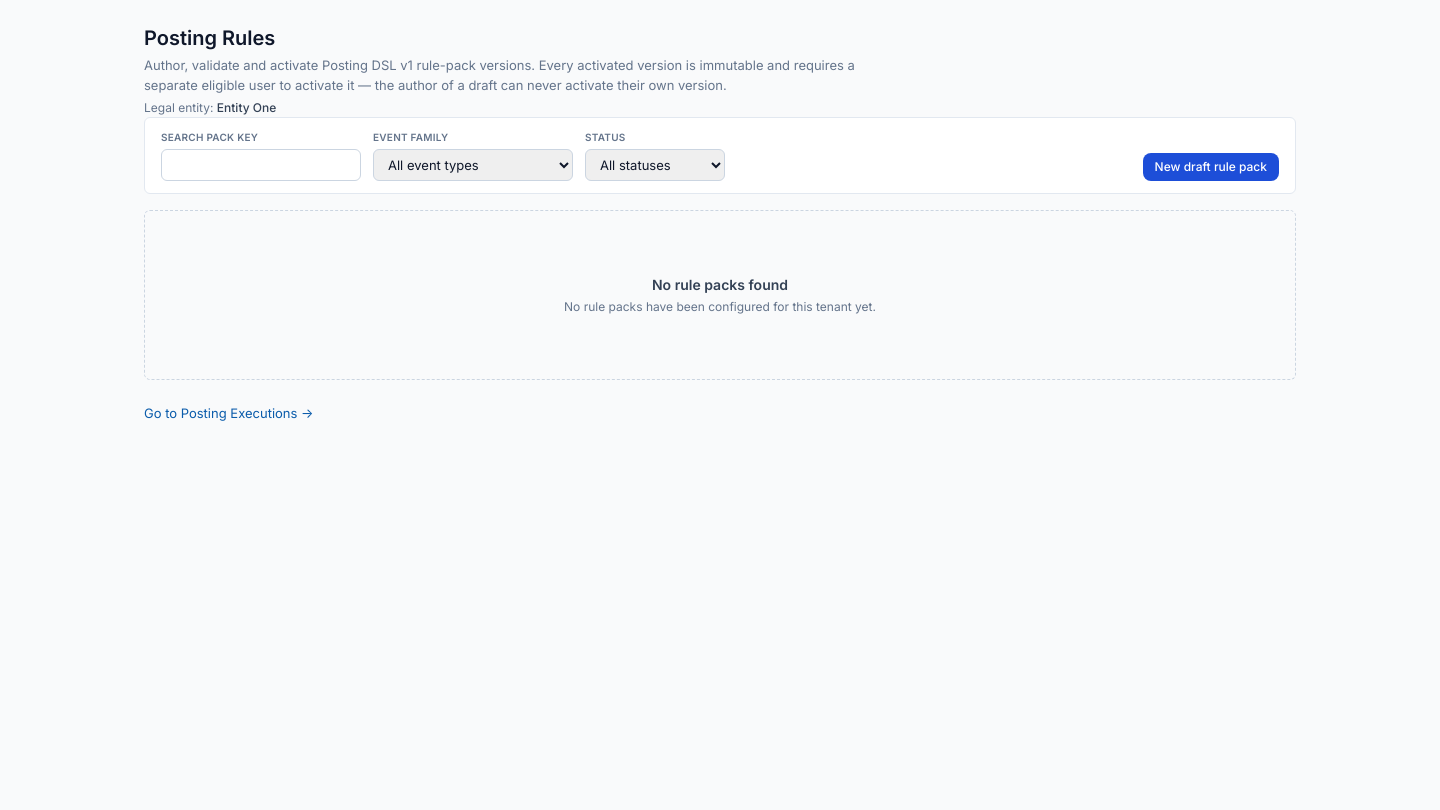
PostingRules screen › runs draft validation and renders structured findings on failure
Expected: the element with test id "posting-rules-empty" is shown, [144, 210, 1296, 380]
Click the button with test id "posting-rules-new-draft": (1211, 167) [1143, 153, 1279, 181]
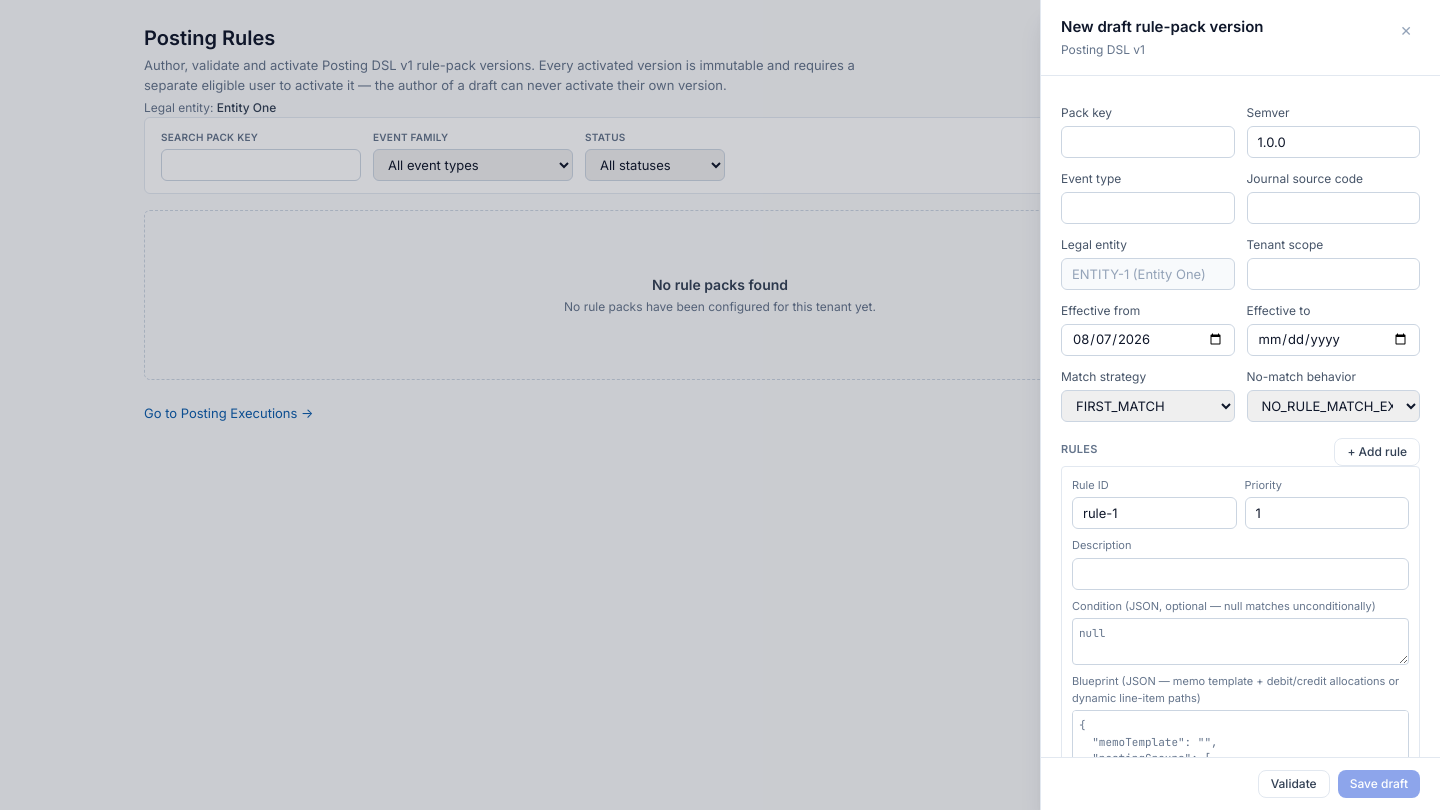
In the field with test id "posting-rules-draft-pack-key": (1148, 142) [1061, 126, 1234, 158], type "new-pack"
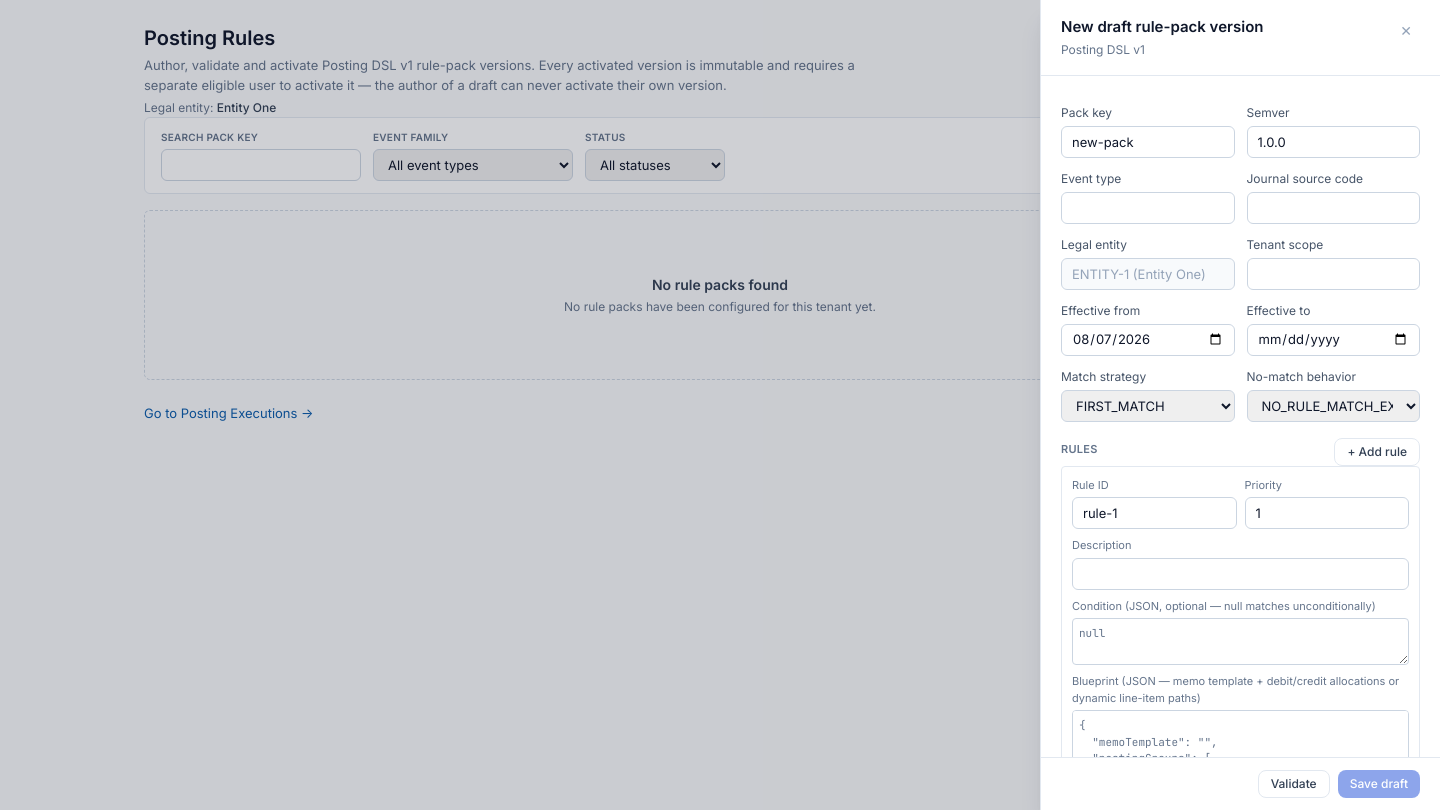
In the field with test id "posting-rules-draft-event-type": (1148, 208) [1061, 192, 1234, 224], type "ap.invoice.accepted.v1"
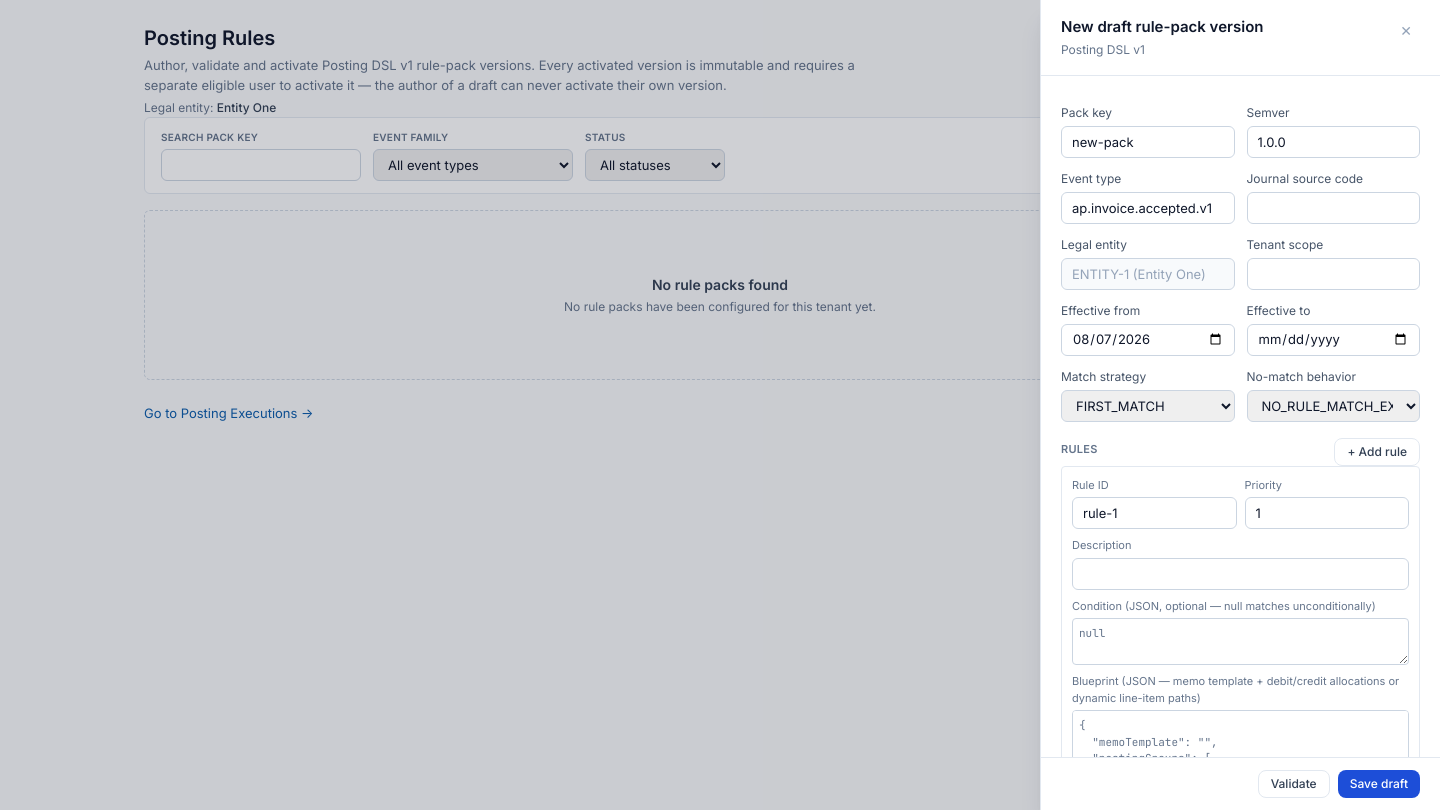
Click the button with test id "posting-rules-validate-draft": (1294, 784) [1258, 770, 1330, 798]
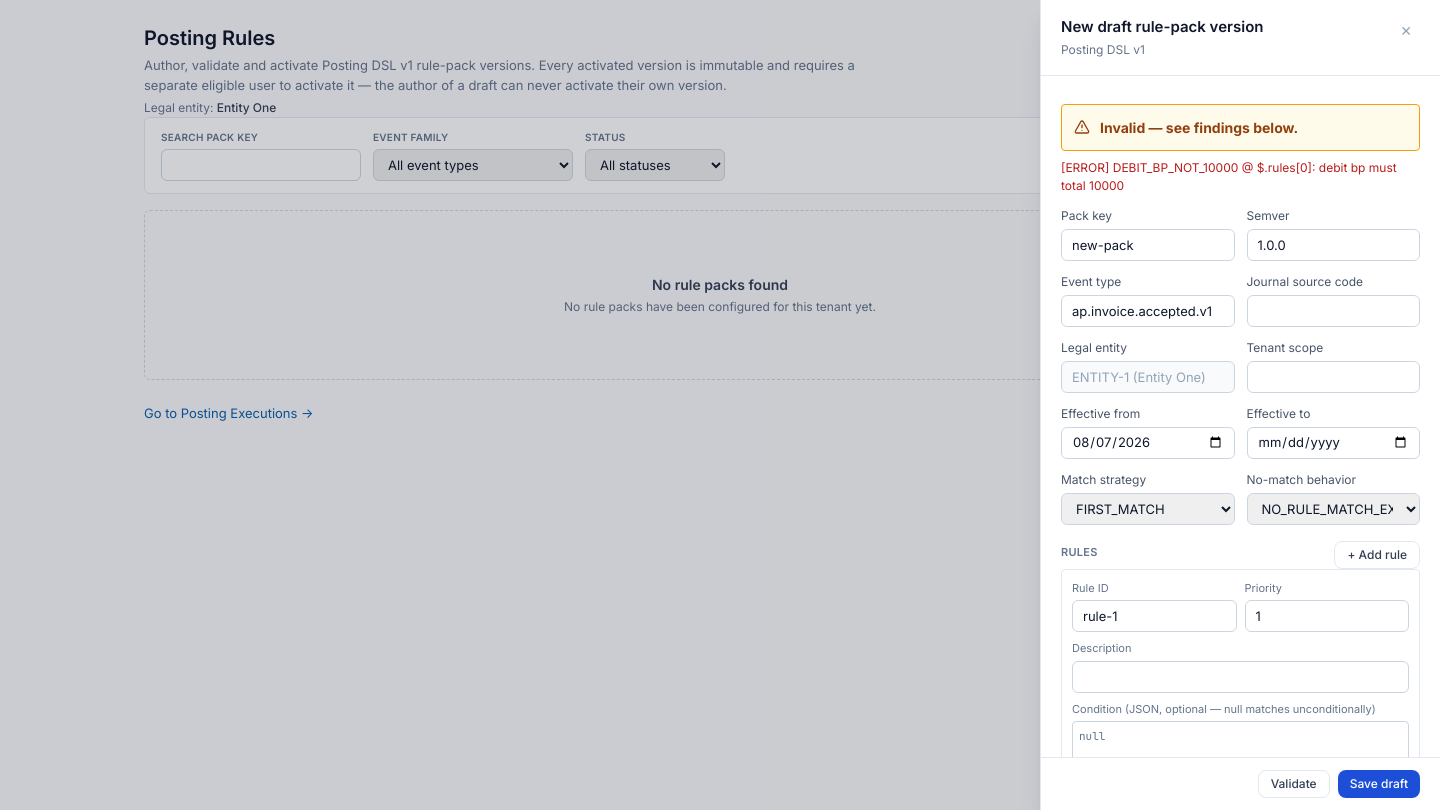
Now the element with test id "posting-rules-draft-valid" shows "Invalid", box [1100, 118, 1298, 136]
Now the list item with test id "posting-rules-draft-finding-0" shows "DEBIT_BP_NOT_10000", box [1113, 160, 1238, 174]
